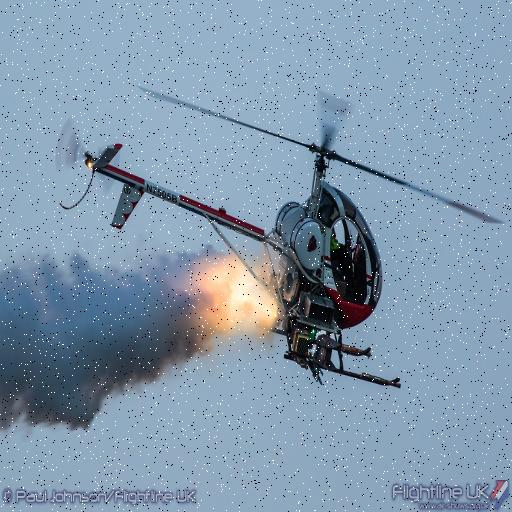helicopter: (46, 71, 408, 399)
